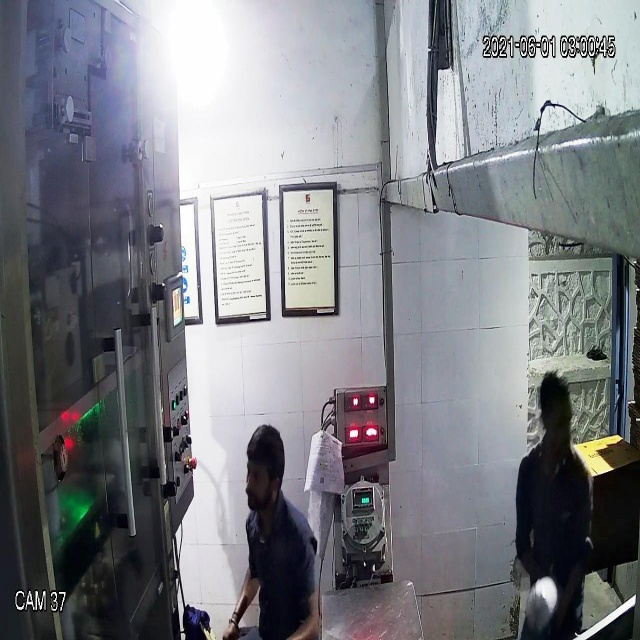Sin_gafas: (243, 460, 283, 493)
